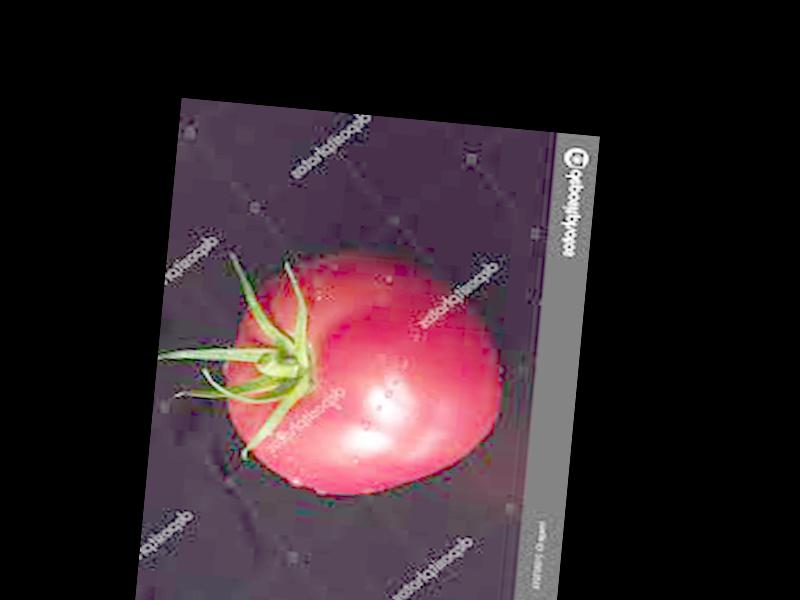Tomato: (215, 243, 511, 508)
